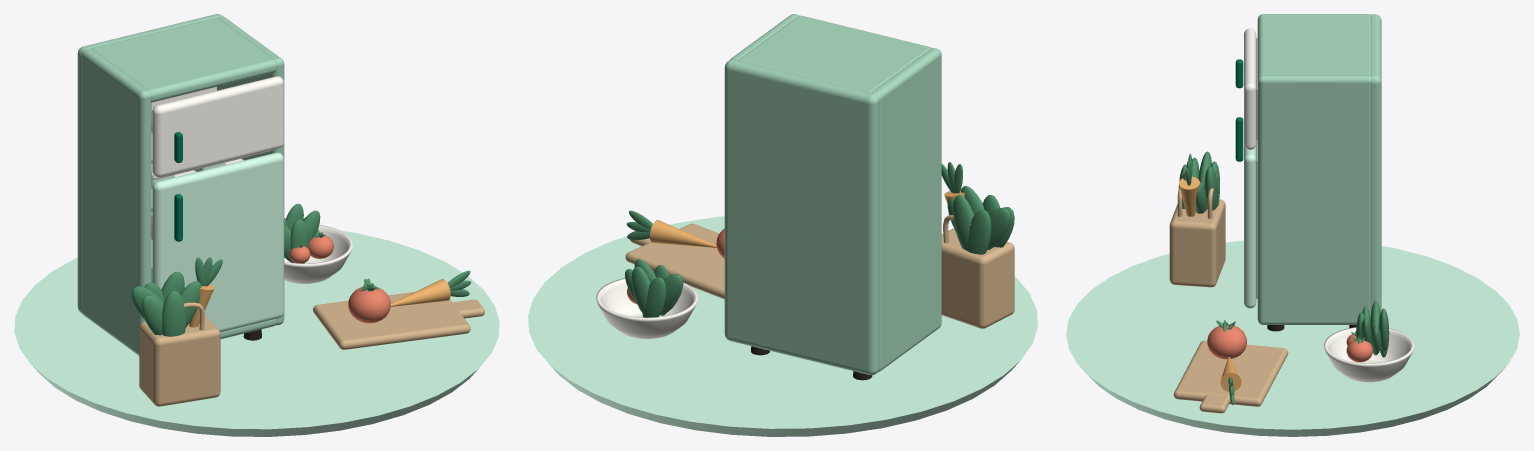
Rendered from fridgellio-landing.glb.
3 renders of one model, left to right at view 1: azimuth 30°, elevation 25°; view 2: azimuth 150°, elevation 25°; view 3: azimuth 270°, elevation 25°, orthographic. The views are drawn at different scales.
Visible parts, largest first — view 1: Fridgellio landing illustration, refrigerator, fridge-door-lower, fridge-door-upper, bowl-food, vegetable-bowl; view 2: refrigerator, Fridgellio landing illustration, vegetable-bowl, bowl-food; view 3: Fridgellio landing illustration, refrigerator, vegetable-bowl, fridge-door-lower, fridge-door-upper, bowl-food.
Part boxes in pixels (x1,y1,x2,y2): Fridgellio landing illustration: (14, 230, 499, 436); refrigerator: (77, 14, 284, 355); fridge-door-lower: (152, 152, 283, 332); fridge-door-upper: (152, 76, 283, 177); bowl-food: (284, 203, 333, 263); vegetable-bowl: (284, 225, 352, 283); refrigerator: (724, 14, 941, 380); Fridgellio landing illustration: (528, 162, 1037, 436); vegetable-bowl: (596, 278, 698, 338); bowl-food: (625, 259, 683, 317); Fridgellio landing illustration: (1066, 151, 1519, 436); refrigerator: (1257, 14, 1381, 331); vegetable-bowl: (1324, 327, 1414, 382); fridge-door-lower: (1235, 117, 1257, 308); fridge-door-upper: (1235, 28, 1257, 149); bowl-food: (1346, 301, 1389, 362).
Bounding box in the file's own units: 4.76 × 3.15 × 4.76.
